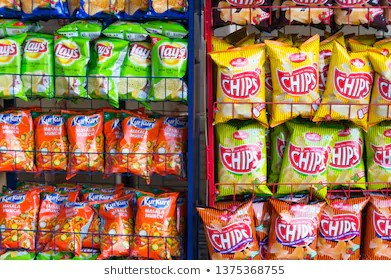lays-med: (149, 37, 187, 102), (54, 32, 89, 98), (91, 39, 122, 106), (23, 32, 52, 100), (121, 38, 152, 101), (1, 35, 24, 98)
